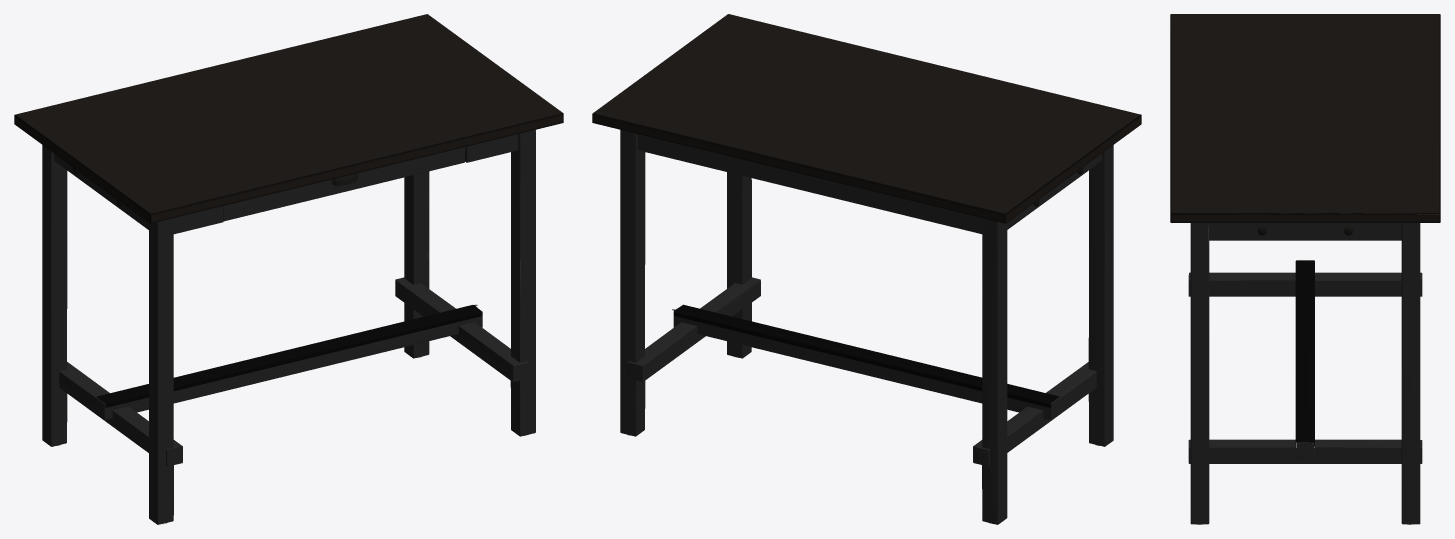
The model's file is 04 - NORDVIKEN Bar table - black 140x80x105 cm.glb.
The picture shows the model from 3 angles, left to right: view 1: azimuth 30°, elevation 25°; view 2: azimuth 150°, elevation 25°; view 3: azimuth 270°, elevation 25°; orthographic projection.
Parts seen in each view (by area): view 1: Mesh_0; view 2: Mesh_0; view 3: Mesh_0.
Boxes of the visible parts, x1,y1,x2,y2 form: Mesh_0: (14, 14, 563, 524); Mesh_0: (592, 14, 1141, 524); Mesh_0: (1170, 14, 1440, 524).
Size of the model in its own units: 1.4 by 1.05 by 0.7998.
Materials: 1 (1 with a texture image).
